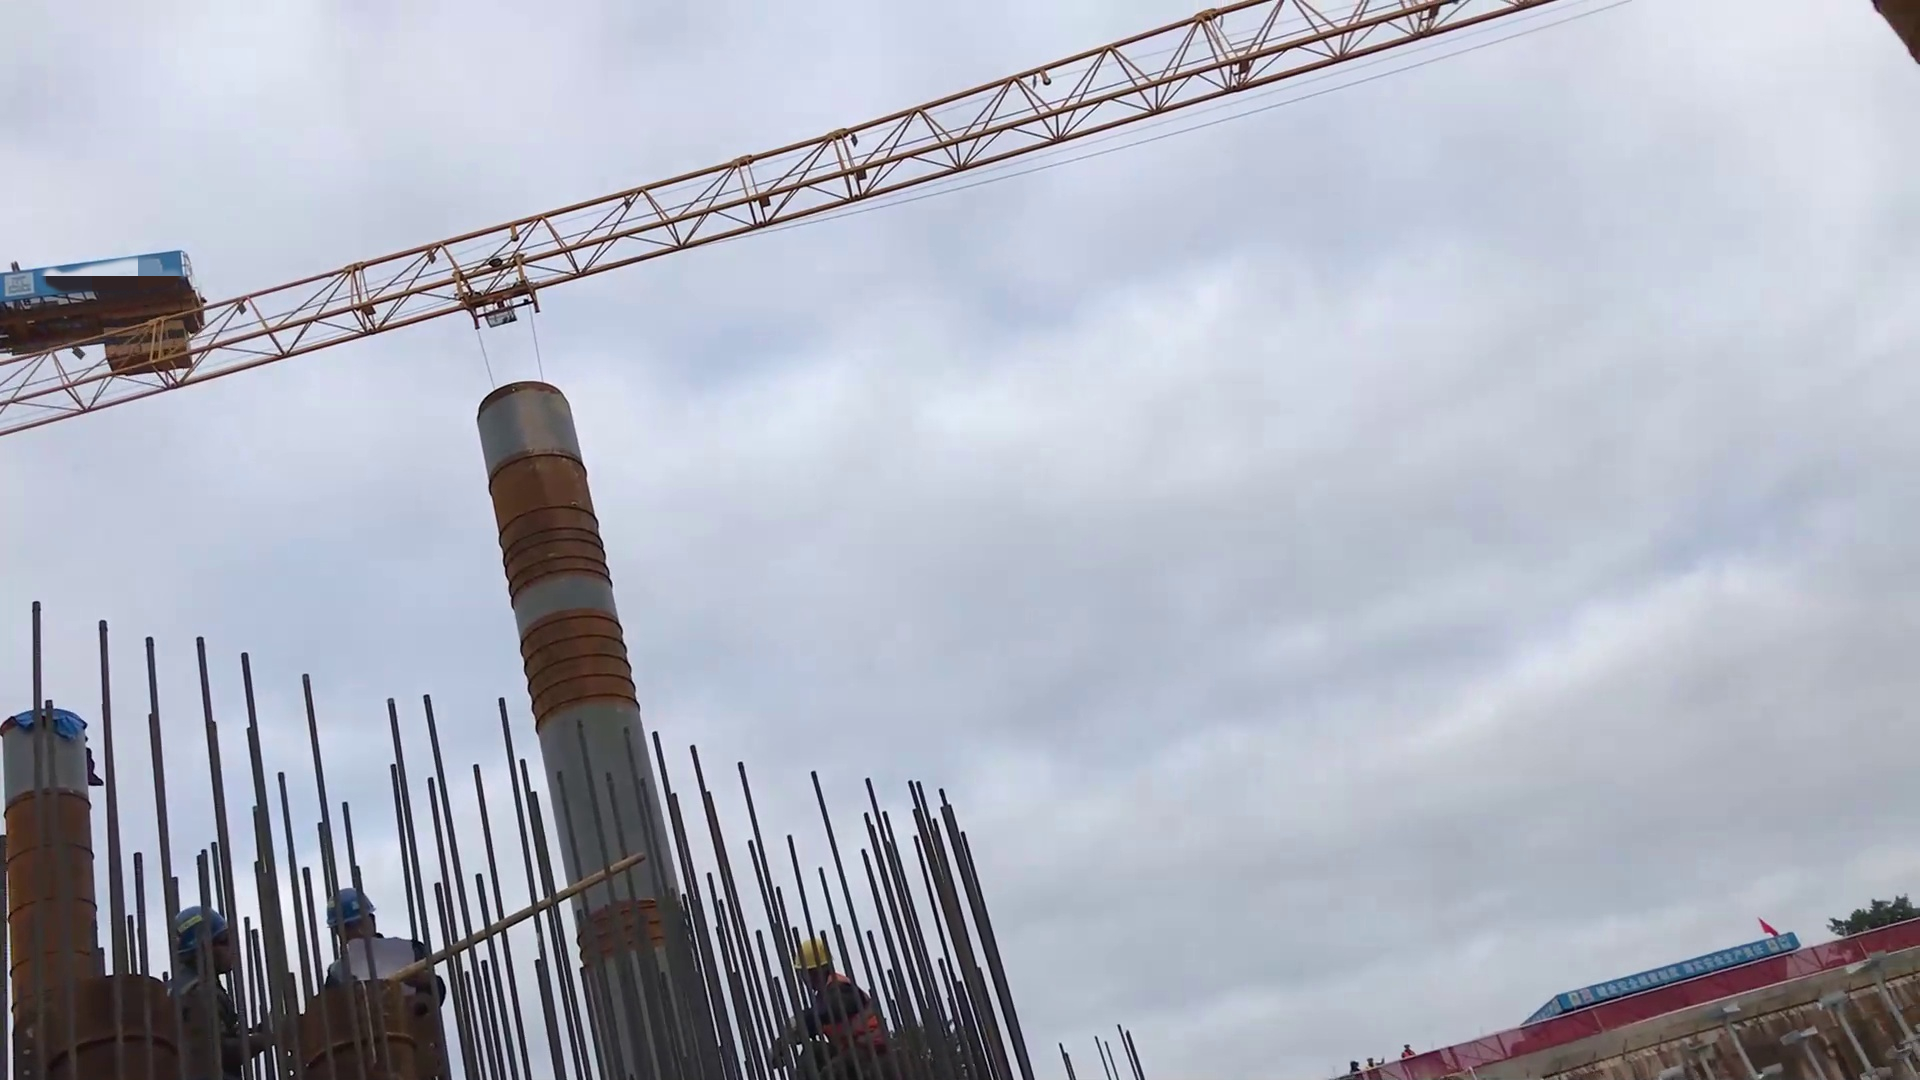helmet: (170, 908, 231, 956), (324, 887, 378, 929), (791, 938, 838, 972)
person: (159, 907, 285, 1078), (762, 933, 897, 1064), (314, 885, 449, 997)
slogan: (1559, 932, 1801, 1017)
